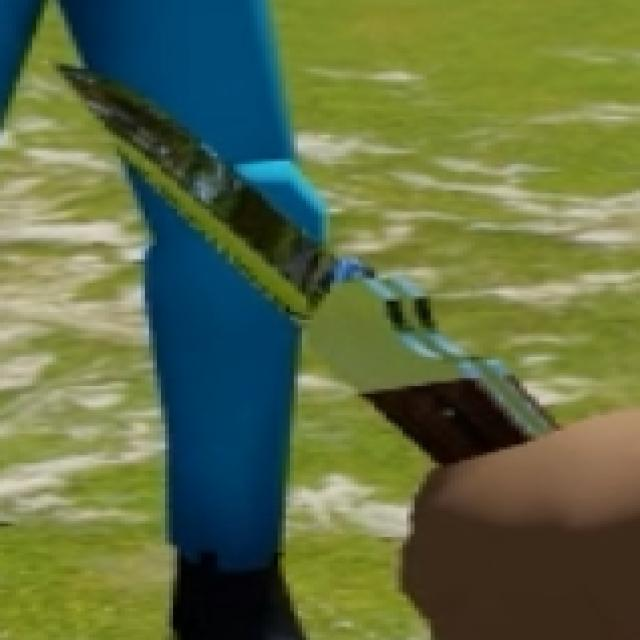knife: (47, 43, 591, 543)
